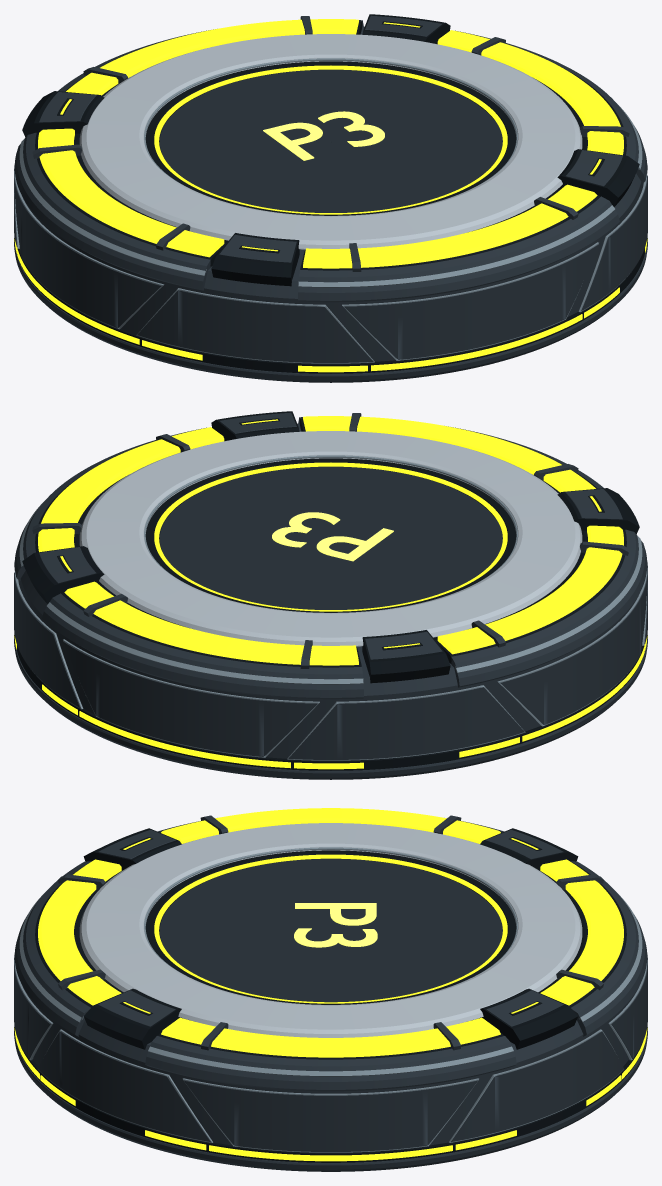
The model's file is Compact.fbx.
3 views of the same model, one above another, from view 1: azimuth 30°, elevation 25°; view 2: azimuth 150°, elevation 25°; view 3: azimuth 270°, elevation 25° (orthographic).
Parts seen in each view (by area): view 1: SM_Puck_Compact_P3_HighDetail; view 2: SM_Puck_Compact_P3_HighDetail; view 3: SM_Puck_Compact_P3_HighDetail.
Boxes of the visible parts, <box> form: SM_Puck_Compact_P3_HighDetail: <box>14,14,647,382</box>; SM_Puck_Compact_P3_HighDetail: <box>14,411,647,779</box>; SM_Puck_Compact_P3_HighDetail: <box>14,808,647,1171</box>.
Bounding box in the file's own units: 71.9 × 71.9 × 14.7.
